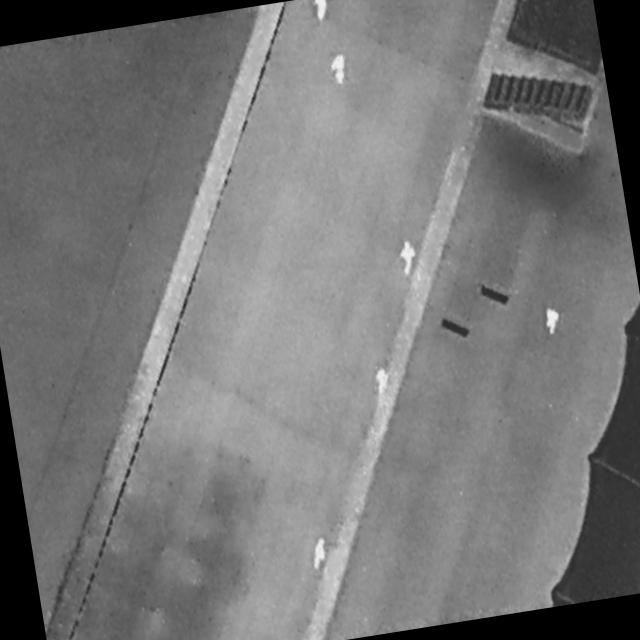person: (305, 533, 336, 577), (396, 237, 421, 280), (540, 302, 567, 340), (372, 364, 394, 400), (330, 52, 351, 88), (313, 1, 332, 23)
